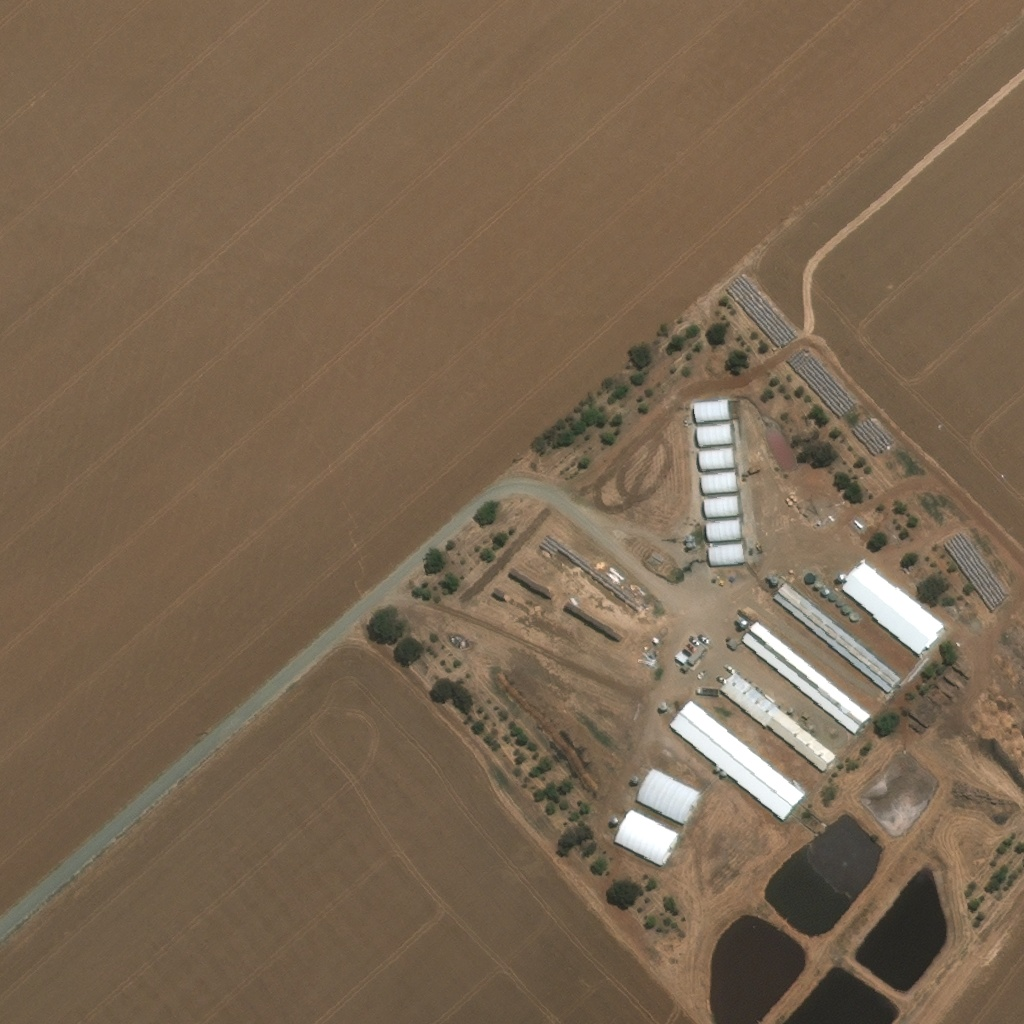0 no-damage: (671, 701, 807, 820), (742, 622, 870, 735), (772, 584, 902, 695), (720, 672, 837, 773), (612, 809, 679, 867), (636, 770, 700, 825), (709, 544, 746, 567), (702, 471, 737, 495), (705, 496, 740, 520), (699, 449, 735, 471), (707, 520, 742, 542), (697, 425, 731, 447), (696, 401, 730, 422), (688, 645, 706, 665), (675, 651, 689, 664), (727, 639, 740, 651), (820, 588, 830, 597), (771, 576, 780, 585), (661, 702, 669, 710), (632, 775, 640, 783), (613, 816, 620, 823), (688, 534, 694, 541), (688, 541, 695, 547), (715, 766, 721, 772), (721, 771, 727, 776)
